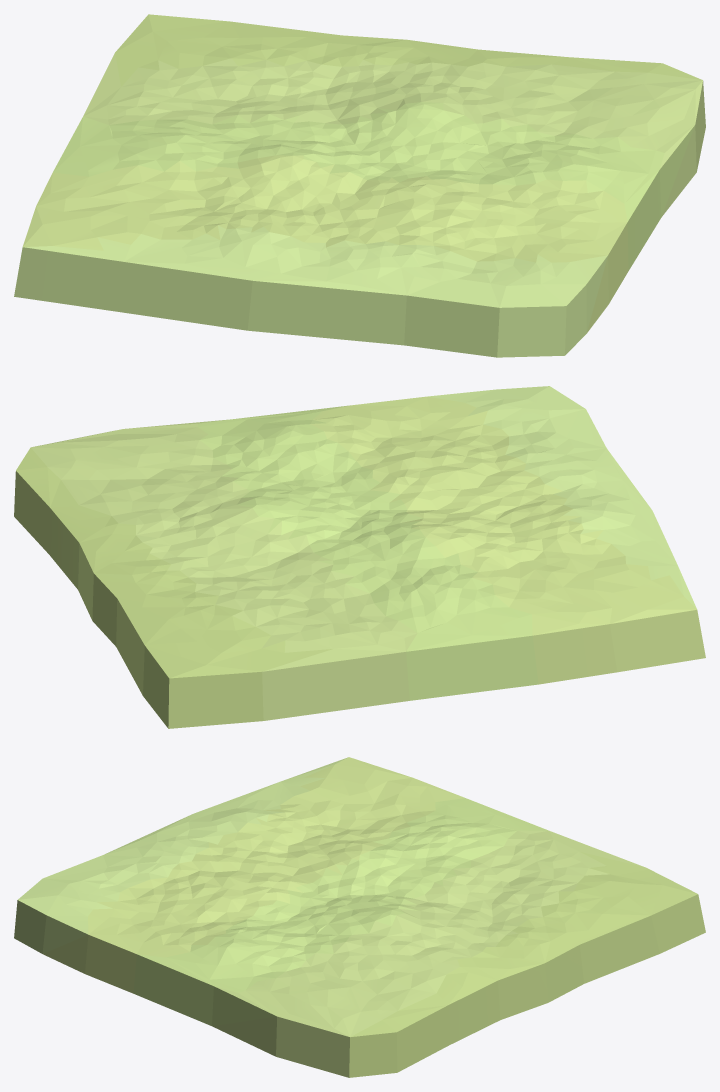
File: meadow_08.glb
3 renders of one model, top to bottom at view 1: azimuth 30°, elevation 25°; view 2: azimuth 150°, elevation 25°; view 3: azimuth 270°, elevation 25°, orthographic. The views are drawn at different scales.
Parts seen in each view (by area): view 1: PP_Meadow_08.002; view 2: PP_Meadow_08.002; view 3: PP_Meadow_08.002.
Part boxes in pixels (<box>): PP_Meadow_08.002: <box>14,14,705,357</box>; PP_Meadow_08.002: <box>14,386,705,728</box>; PP_Meadow_08.002: <box>14,757,705,1077</box>.
Bounding box in the file's own units: 11.69 × 1.11 × 12.
